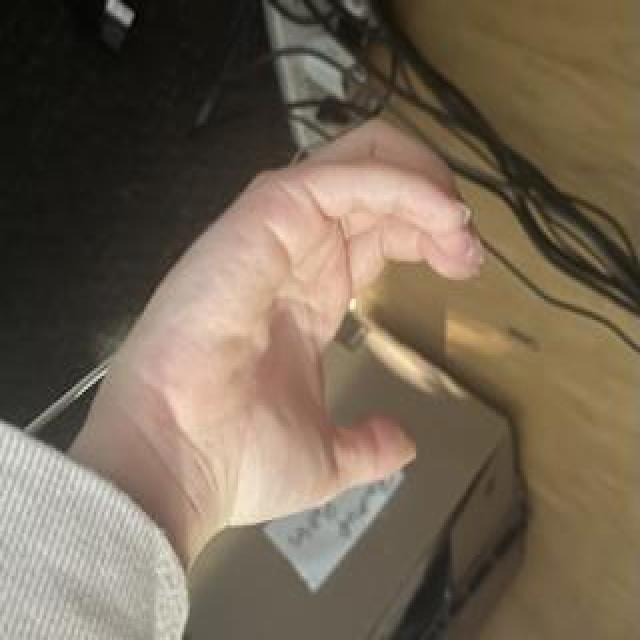C: (94, 110, 488, 550)
